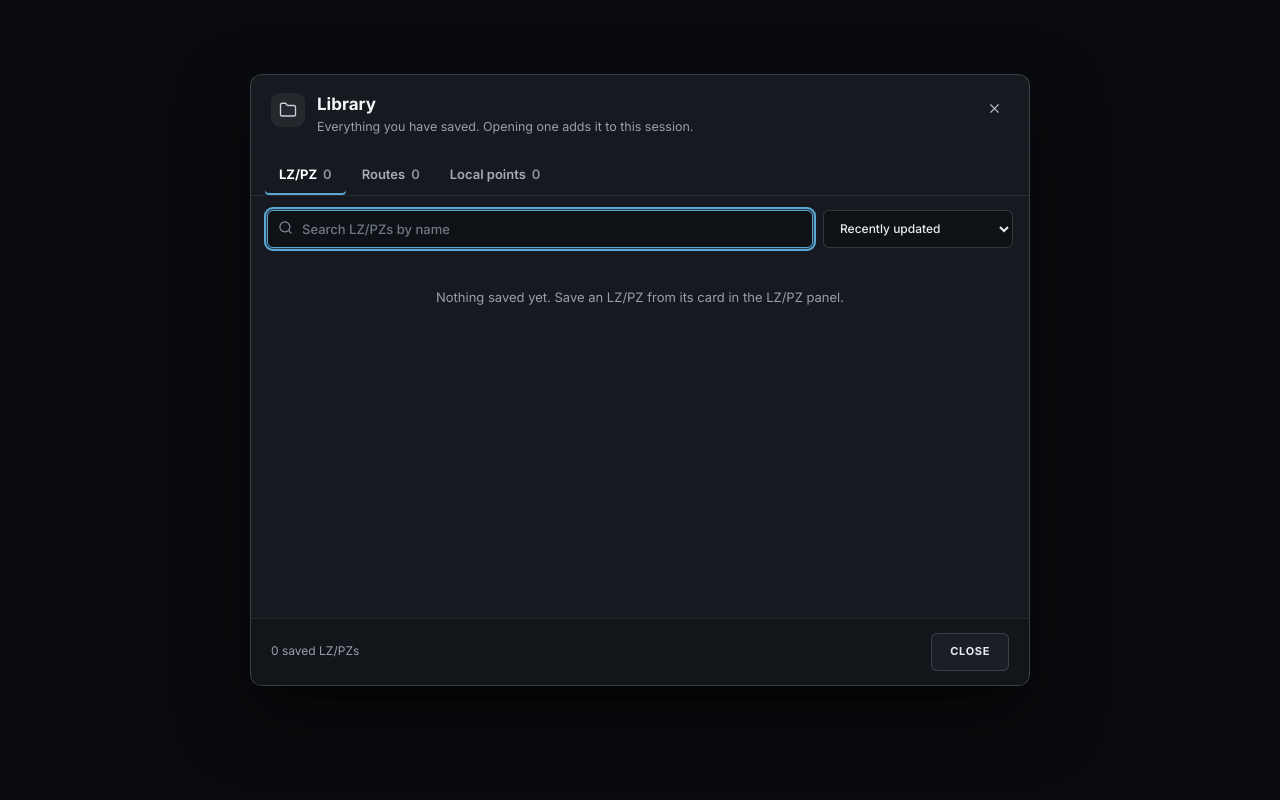
Test: the Library › shows Loading while a retry is under way
Click the tab "Local points 0".
click(495, 174)  # box [436,153,554,195]
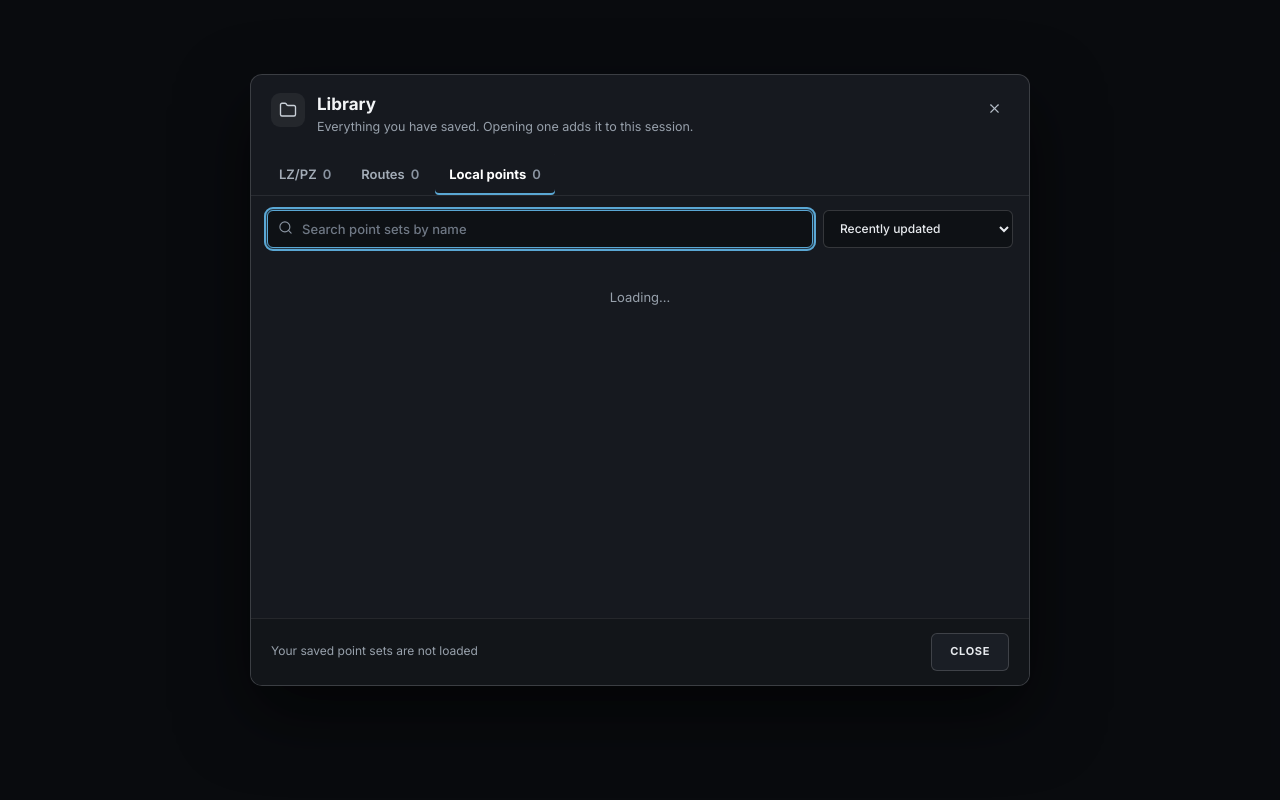
Expected: the text "Loading…" is shown, [610,289,670,305]
